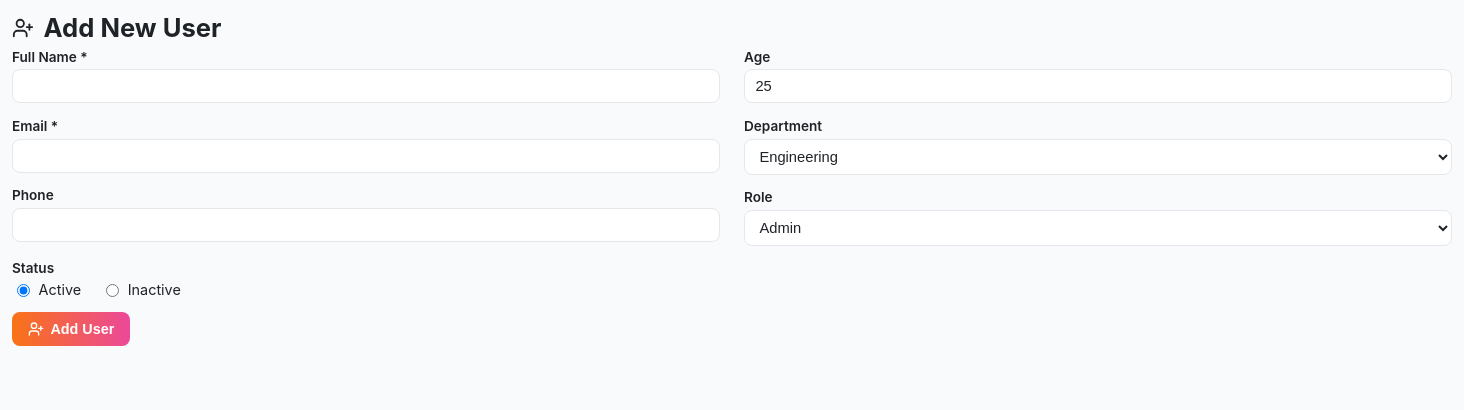
it: AddUser › still reports success but flags the email failure when the API says the email failed
In the field labelled "Full Name *": (366, 86) x1=12 y1=69 x2=720 y2=103, type "Bob Jones"
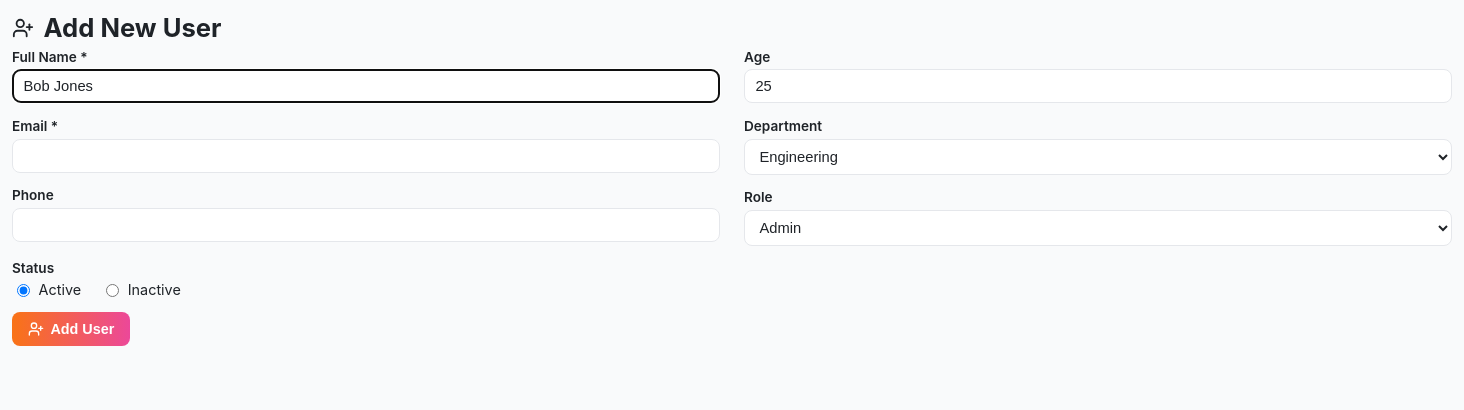
In the field labelled "Email *": (366, 156) x1=12 y1=139 x2=720 y2=173, type "bob@example.com"
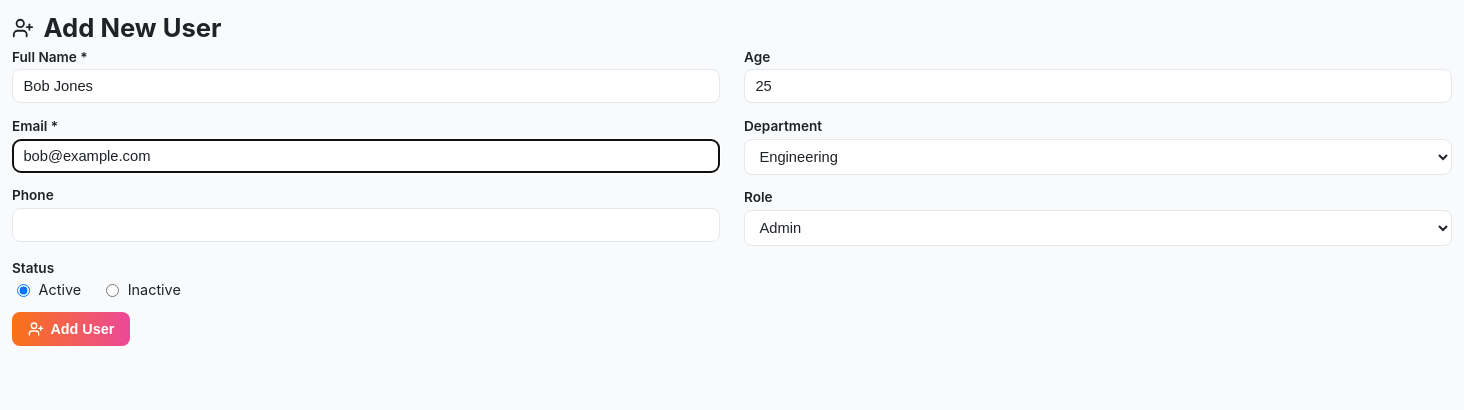
Click the button "Add User": click(71, 329) x1=12 y1=312 x2=130 y2=346
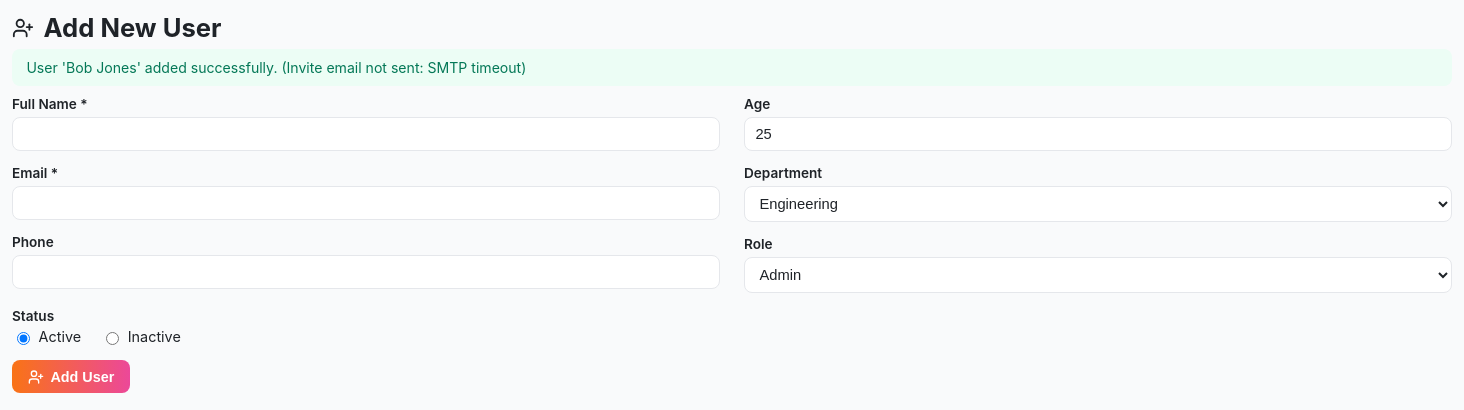
expect the text "Invite email not sent: SMTP timeout" is shown: met, box x1=26 y1=59 x2=526 y2=76
